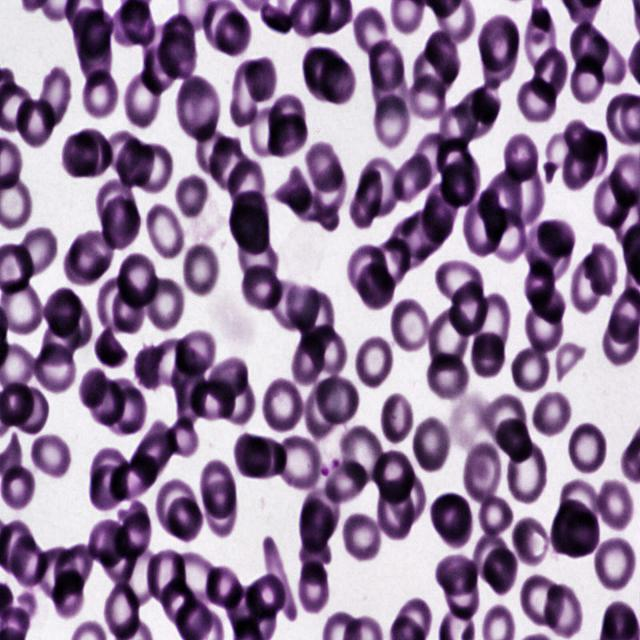red blood cell: (174, 72, 221, 143), (463, 189, 508, 259), (501, 160, 546, 228), (505, 437, 548, 506), (550, 499, 601, 557), (98, 275, 145, 337), (479, 167, 523, 232), (592, 532, 638, 594), (170, 552, 222, 606), (521, 572, 567, 632), (401, 207, 454, 259), (261, 375, 306, 436), (132, 424, 177, 485), (140, 273, 185, 333), (372, 88, 414, 152), (429, 491, 474, 550), (435, 259, 485, 312), (229, 190, 271, 253), (462, 442, 503, 506), (277, 433, 321, 492), (427, 308, 468, 370), (523, 0, 556, 77), (68, 226, 115, 280), (390, 296, 433, 355), (592, 170, 636, 227), (341, 426, 384, 484), (104, 578, 144, 640), (144, 202, 186, 261), (357, 158, 399, 217), (513, 76, 562, 126), (474, 292, 511, 358), (412, 413, 452, 474), (156, 477, 198, 535), (478, 14, 520, 72), (31, 342, 76, 396), (115, 252, 159, 307), (209, 135, 250, 194), (486, 204, 526, 264), (122, 546, 160, 609), (299, 289, 334, 357), (354, 334, 395, 392), (530, 45, 568, 107), (1, 279, 43, 335), (109, 454, 160, 500), (145, 549, 185, 607), (426, 348, 468, 403), (240, 262, 286, 312), (567, 421, 608, 477), (373, 448, 414, 504), (96, 178, 136, 235), (100, 196, 142, 250), (16, 222, 58, 276), (181, 241, 220, 299), (352, 6, 391, 64), (410, 130, 449, 188), (378, 478, 414, 540), (88, 519, 130, 572), (55, 294, 94, 351), (370, 62, 409, 119), (38, 546, 79, 600), (230, 61, 264, 126), (296, 554, 334, 612), (304, 45, 344, 100), (584, 36, 628, 86), (560, 482, 604, 532), (484, 396, 528, 446), (512, 516, 554, 568), (170, 350, 207, 409), (342, 510, 382, 564), (30, 432, 73, 482), (151, 336, 194, 386), (36, 66, 71, 127), (562, 134, 600, 190), (349, 242, 389, 295), (14, 96, 54, 149), (413, 46, 455, 96), (238, 233, 280, 283), (200, 460, 236, 518), (306, 142, 346, 194), (53, 543, 93, 595), (316, 376, 359, 424), (532, 390, 574, 439), (439, 101, 480, 151), (104, 381, 141, 436), (570, 255, 604, 314), (566, 56, 606, 106), (457, 89, 497, 139), (42, 314, 82, 364), (473, 530, 510, 584), (571, 22, 610, 73), (379, 390, 415, 445), (124, 71, 160, 126), (369, 40, 402, 100), (306, 380, 339, 440), (391, 219, 429, 271), (373, 236, 411, 288), (594, 481, 636, 528), (78, 27, 112, 85), (204, 480, 238, 538), (350, 168, 382, 229), (216, 374, 255, 424), (91, 448, 130, 498), (444, 566, 480, 620), (300, 497, 334, 554), (452, 281, 486, 338), (358, 261, 396, 312), (468, 329, 505, 381), (10, 536, 47, 588), (545, 585, 582, 637), (308, 326, 348, 374), (135, 144, 174, 193), (393, 153, 432, 202), (158, 30, 196, 80), (227, 162, 265, 212), (424, 182, 462, 232), (435, 553, 479, 596), (324, 460, 368, 503), (527, 222, 562, 276), (267, 111, 309, 156), (526, 301, 563, 352), (72, 7, 109, 58), (61, 132, 100, 180), (196, 126, 232, 178), (114, 510, 152, 559), (117, 140, 155, 189), (142, 44, 179, 94), (602, 317, 639, 367), (437, 136, 474, 186), (73, 128, 113, 174), (247, 572, 286, 619), (226, 584, 265, 631), (204, 566, 242, 614), (86, 376, 124, 424), (315, 164, 347, 221), (203, 0, 240, 49), (392, 473, 426, 526), (46, 286, 82, 336), (268, 92, 306, 139), (410, 74, 448, 121), (585, 244, 618, 298), (11, 387, 48, 435), (251, 107, 288, 155), (83, 70, 119, 119), (235, 431, 271, 480), (245, 438, 288, 479), (509, 344, 549, 388), (208, 356, 248, 400), (192, 379, 236, 419), (214, 10, 252, 56), (292, 334, 326, 385), (90, 463, 126, 511), (424, 31, 460, 79), (174, 332, 216, 373), (502, 134, 536, 184), (162, 579, 198, 626), (174, 171, 209, 219), (476, 494, 512, 540), (497, 418, 533, 464), (322, 59, 358, 105), (162, 14, 195, 64), (442, 159, 477, 206), (484, 548, 519, 595), (64, 241, 102, 284), (166, 498, 203, 542), (104, 130, 140, 175), (114, 387, 147, 435), (284, 285, 320, 329), (112, 1, 144, 49), (96, 324, 130, 369), (1, 466, 36, 509), (112, 287, 144, 334), (577, 130, 608, 178), (530, 284, 568, 323), (562, 119, 597, 160), (538, 218, 575, 256), (135, 345, 166, 390), (54, 570, 82, 619), (525, 261, 554, 308), (247, 58, 277, 102), (166, 416, 198, 456), (80, 368, 106, 411)
ring: (312, 420, 352, 481)
